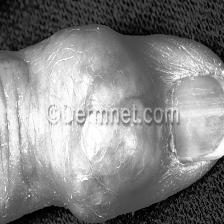Unclassified: (81, 89, 149, 206)
